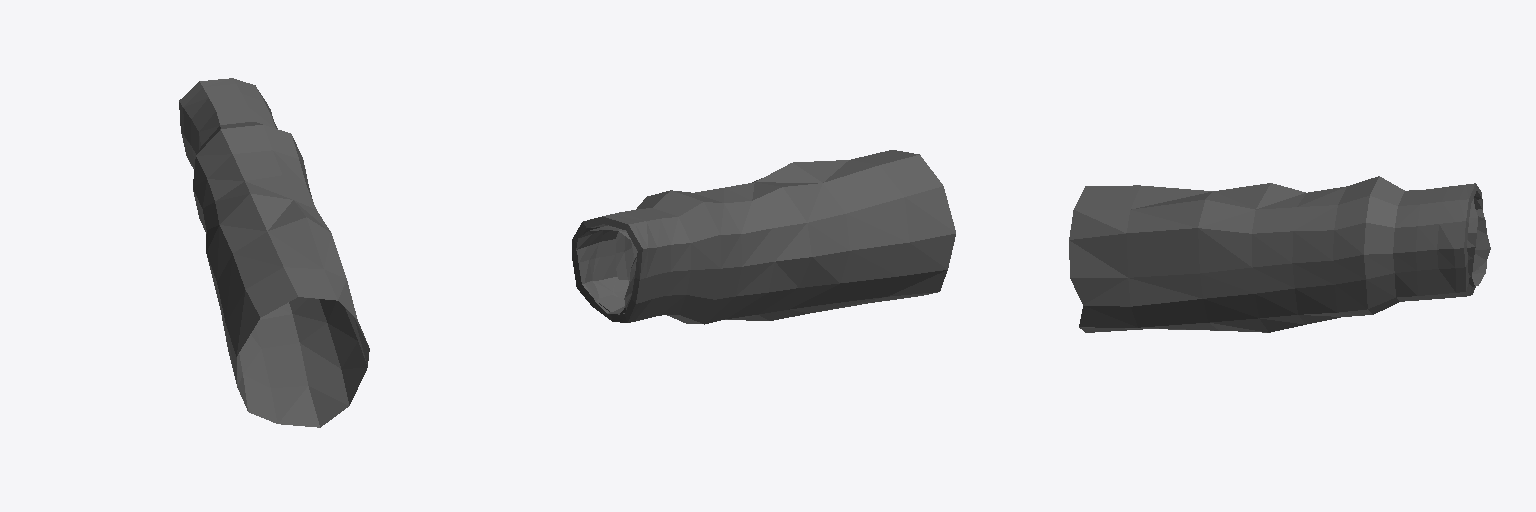
The model's file is r_forearm.obj.
3 views of the same model, side by side, from view 1: azimuth 30°, elevation 25°; view 2: azimuth 150°, elevation 25°; view 3: azimuth 270°, elevation 25° (orthographic).
Visible parts, largest first — view 1: zoey_color_bmp_002_zoey_color_bmp.002; view 2: zoey_color_bmp_002_zoey_color_bmp.002; view 3: zoey_color_bmp_002_zoey_color_bmp.002.
Part boxes in pixels (left/top/right/bottom): zoey_color_bmp_002_zoey_color_bmp.002: left=179, top=78, right=369, bottom=427; zoey_color_bmp_002_zoey_color_bmp.002: left=572, top=150, right=955, bottom=324; zoey_color_bmp_002_zoey_color_bmp.002: left=1069, top=176, right=1490, bottom=332.
Bounding box in the file's own units: 0.117 × 0.1 × 0.2057.